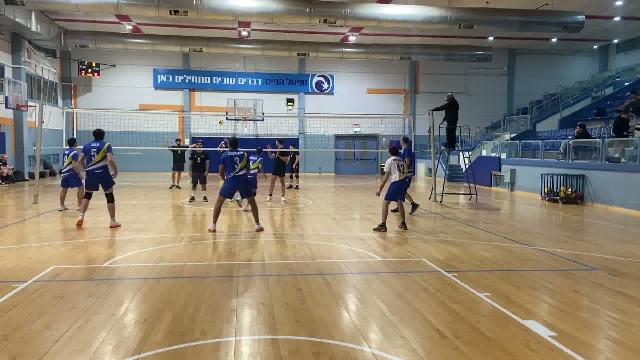ball: (219, 119, 226, 127)
